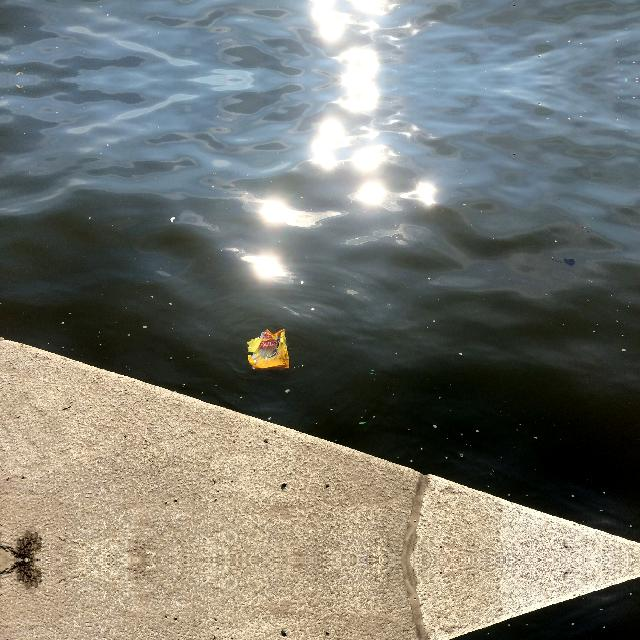Plastic: (246, 326, 290, 372)
